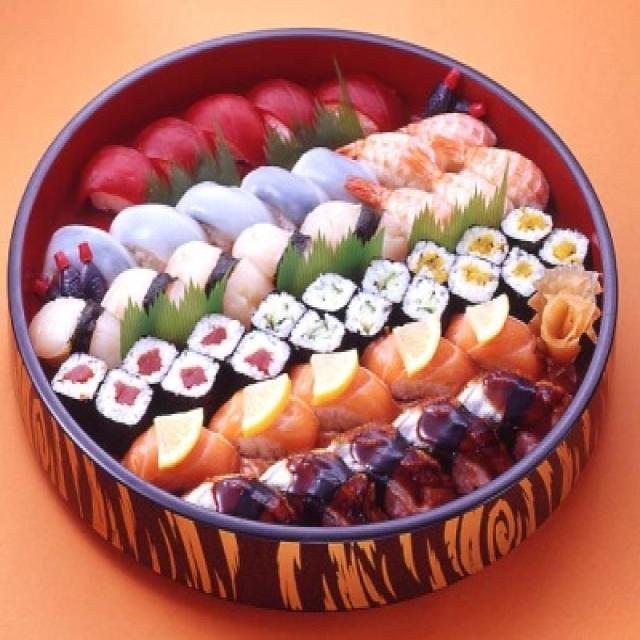寿司卷物: (0, 38, 640, 608)
